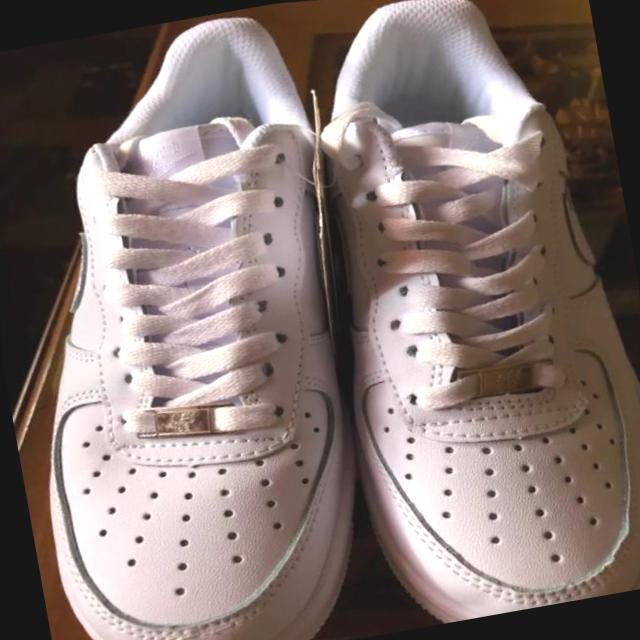nike_fake_airforce: (0, 0, 423, 640), (244, 0, 640, 639)
